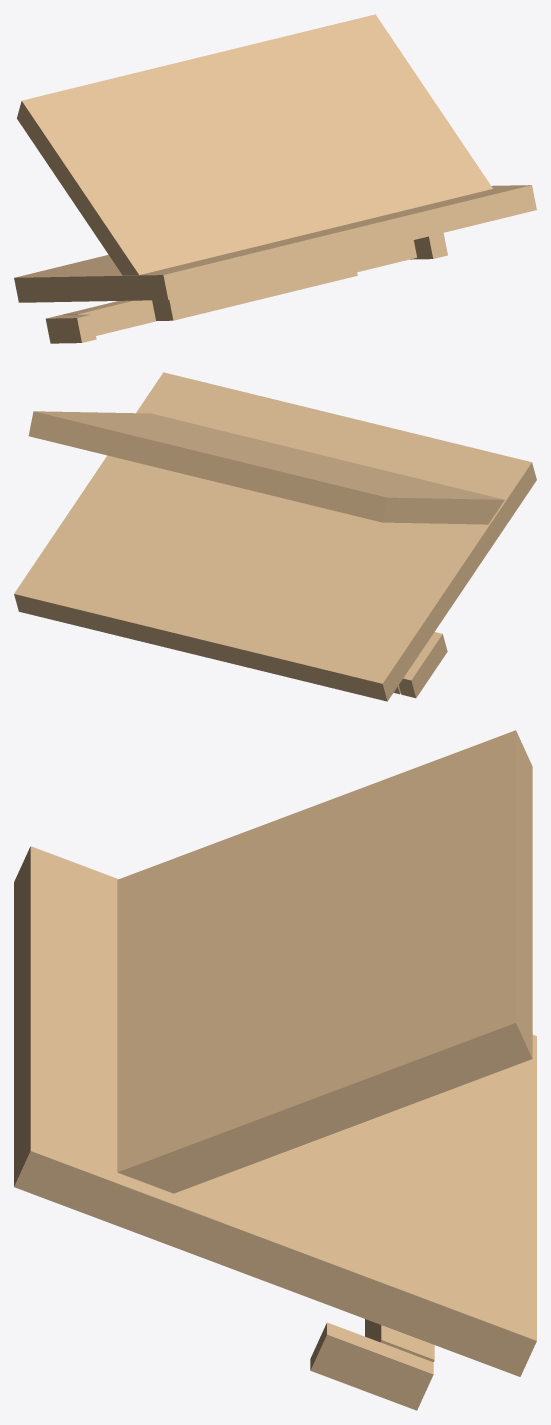
Rendered from tinker.obj.
The picture shows the model from 3 angles, top to bottom: view 1: azimuth 30°, elevation 25°; view 2: azimuth 150°, elevation 25°; view 3: azimuth 270°, elevation 25°; orthographic projection. The views are drawn at different scales.
Visible parts, largest first — view 1: obj_0; view 2: obj_0; view 3: obj_0.
Boxes of the visible parts, x1,y1,x2,y2 form: obj_0: [14, 14, 536, 343]; obj_0: [14, 372, 536, 701]; obj_0: [14, 730, 536, 1410].
Bounding box in the file's own units: 250 × 145 × 181.
